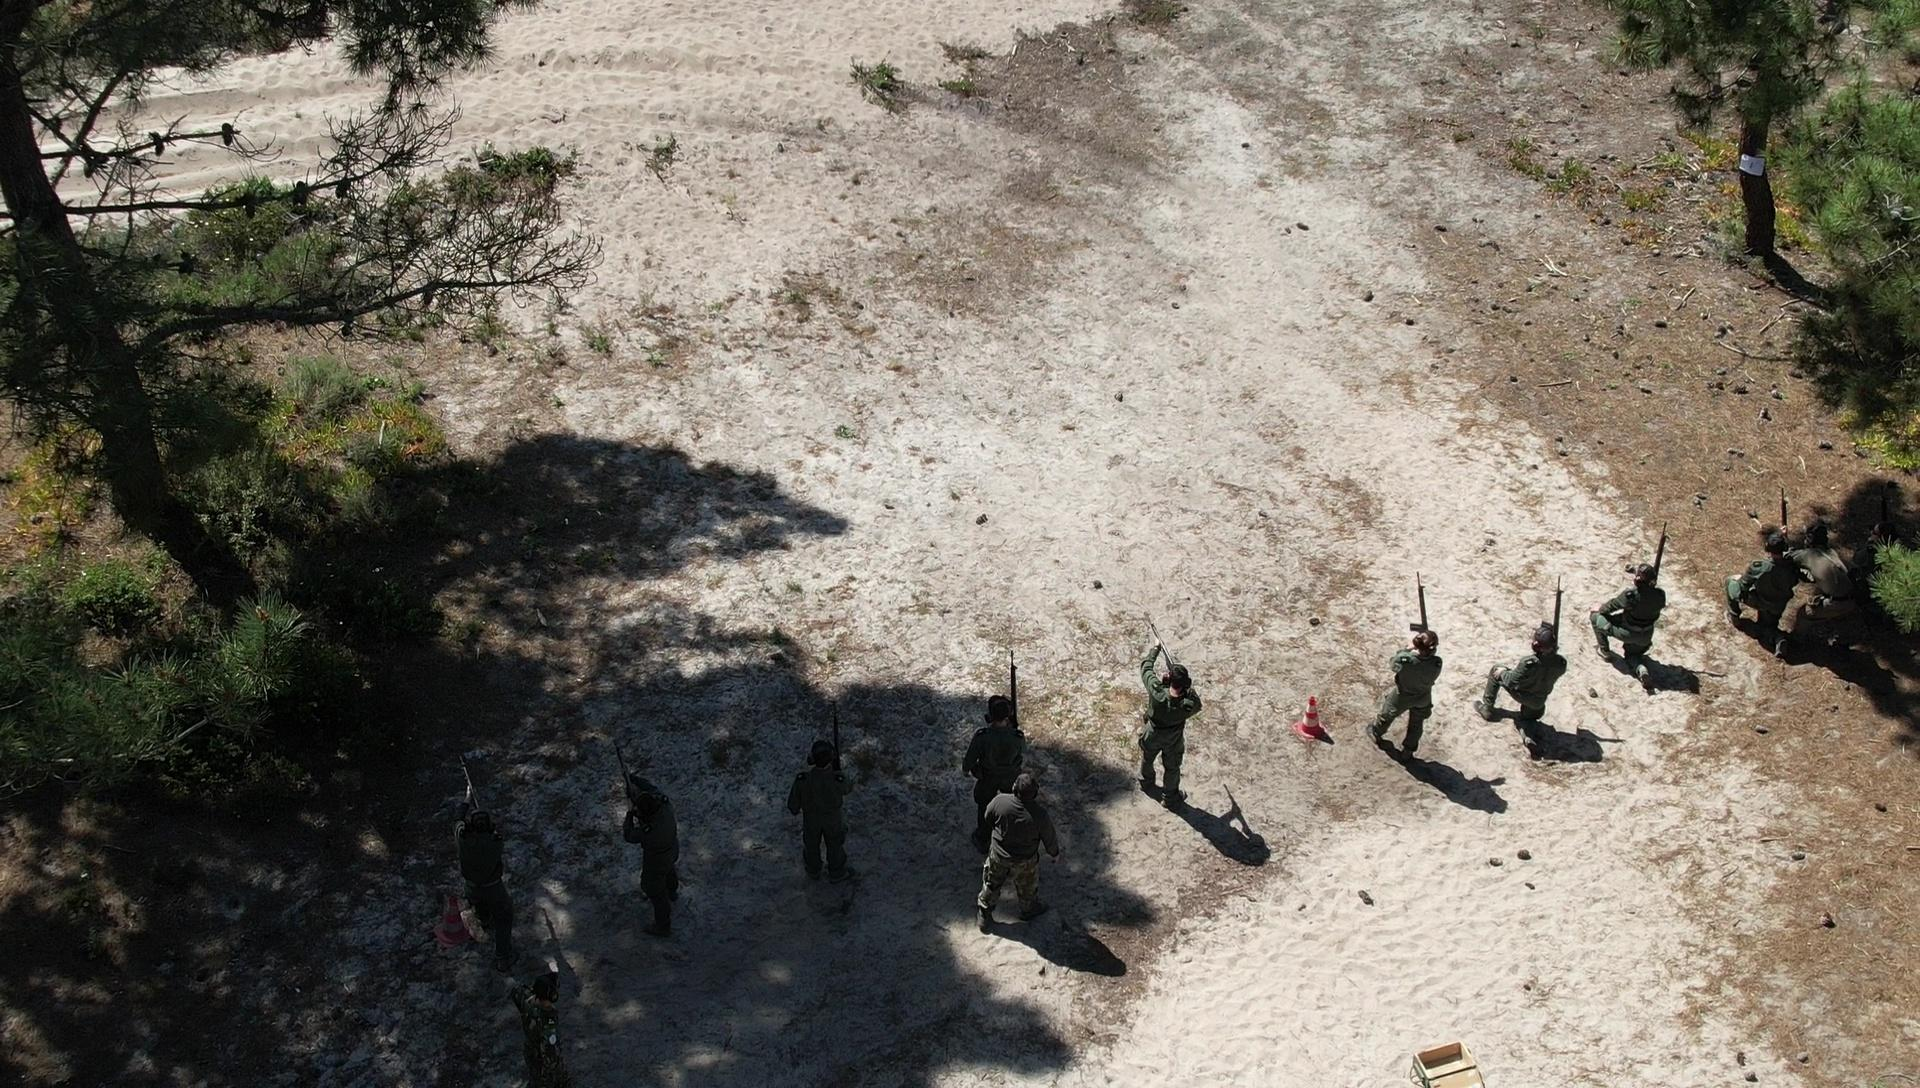Soldier: (603, 739, 703, 957), (436, 757, 530, 986), (1585, 516, 1691, 711), (1122, 611, 1213, 833), (1366, 582, 1461, 783), (959, 765, 1068, 938), (1484, 582, 1580, 771), (786, 700, 865, 926), (957, 651, 1039, 811), (1749, 502, 1813, 671), (1801, 514, 1876, 644)
